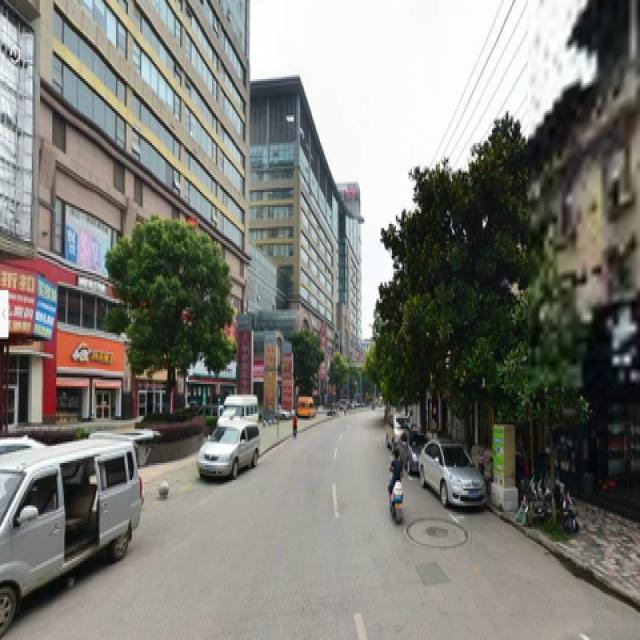cinn: (130, 226, 222, 429)
